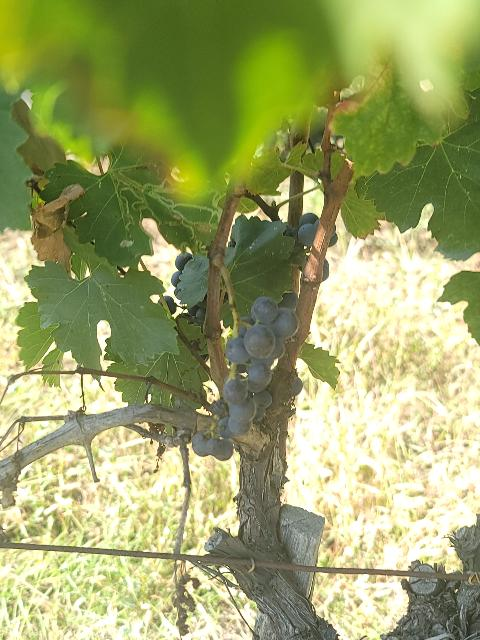grapes: (191, 291, 299, 460)
